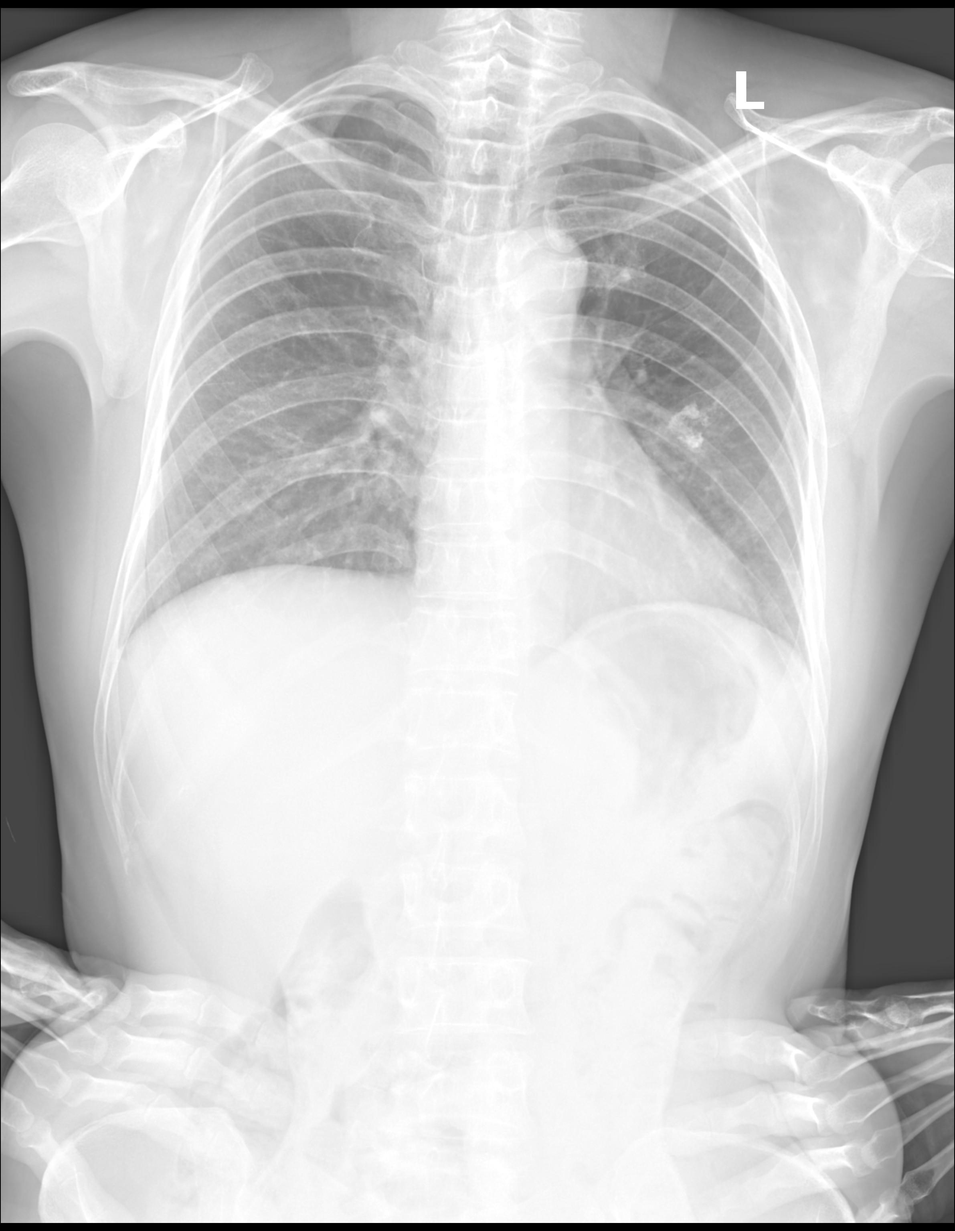Cardiomegaly: (411, 514, 763, 653)
